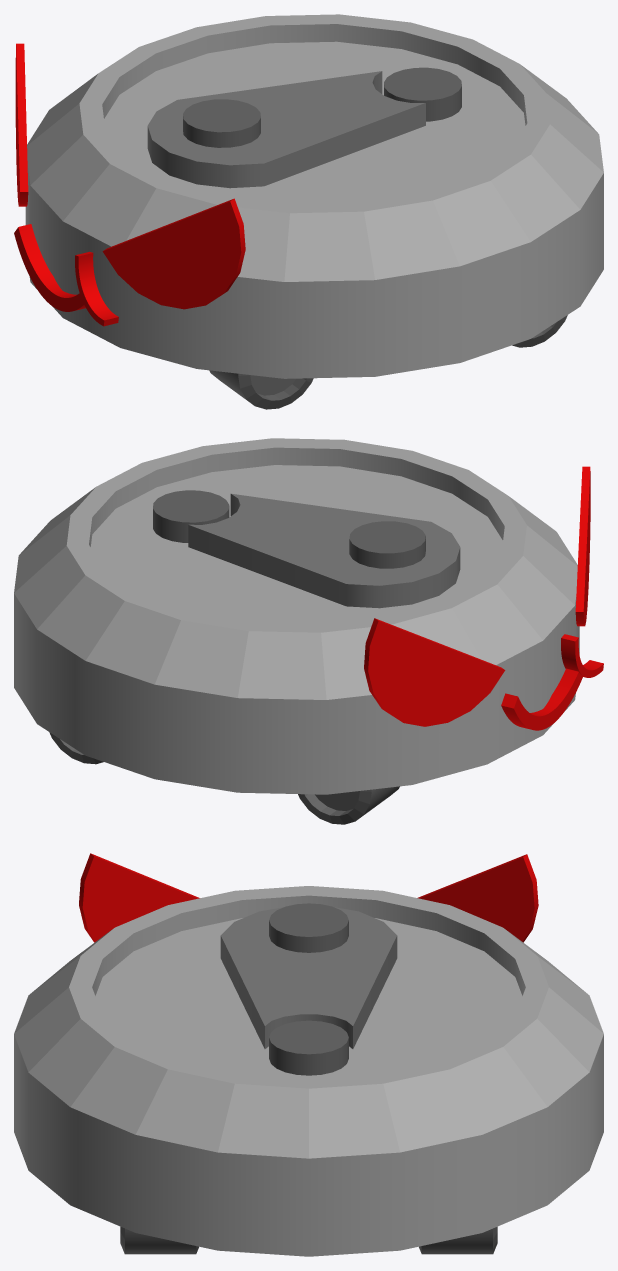
The model's file is Roomba.fbx.
3 renders of one model, top to bottom at view 1: azimuth 30°, elevation 25°; view 2: azimuth 150°, elevation 25°; view 3: azimuth 270°, elevation 25°, orthographic. The views are drawn at different scales.
Visible parts, largest first — view 1: pCylinder1, pCube1, pasted__pCylinder4, pCube3, pasted__pCylinder3, pCylinder3, pasted__pCylinder2, pCylinder4; view 2: pCylinder1, pCube1, pCylinder4, pasted__pCylinder3, pCube3, pCylinder3, pCylinder2, pasted__pCylinder4; view 3: pCylinder1, pCube1, pasted__pCylinder4, pCylinder4, pCylinder3, pasted__pCylinder3, pasted__pCylinder2, pasted__pasted__pCylinder2.
Part boxes in pixels (x1,y1,x2,y2): pCylinder1: [25, 14, 603, 378]; pCube1: [147, 71, 425, 188]; pasted__pCylinder4: [102, 198, 245, 309]; pCube3: [14, 224, 118, 326]; pasted__pCylinder3: [183, 99, 260, 147]; pCylinder3: [384, 67, 461, 121]; pasted__pCylinder2: [209, 370, 313, 409]; pCylinder4: [15, 43, 28, 206]; pCylinder1: [14, 438, 579, 794]; pCube1: [188, 493, 460, 608]; pCylinder4: [364, 618, 505, 726]; pasted__pCylinder3: [349, 521, 425, 568]; pCube3: [501, 634, 603, 730]; pCylinder3: [153, 490, 229, 542]; pCylinder2: [298, 786, 399, 824]; pasted__pCylinder4: [575, 466, 590, 626]; pCylinder1: [14, 886, 603, 1256]; pCube1: [220, 907, 397, 1048]; pasted__pCylinder4: [79, 853, 199, 942]; pCylinder4: [417, 854, 538, 942]; pCylinder3: [269, 1020, 348, 1075]; pasted__pCylinder3: [269, 903, 348, 952]; pasted__pCylinder2: [419, 1226, 497, 1254]; pasted__pasted__pCylinder2: [120, 1226, 198, 1254].
Bounding box in the file's own units: 4.06 × 1.78 × 3.97.
